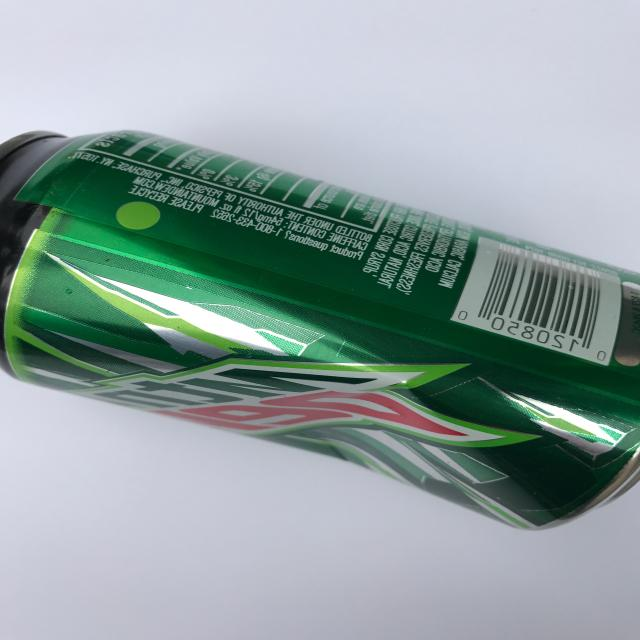metal: (0, 128, 640, 530)
